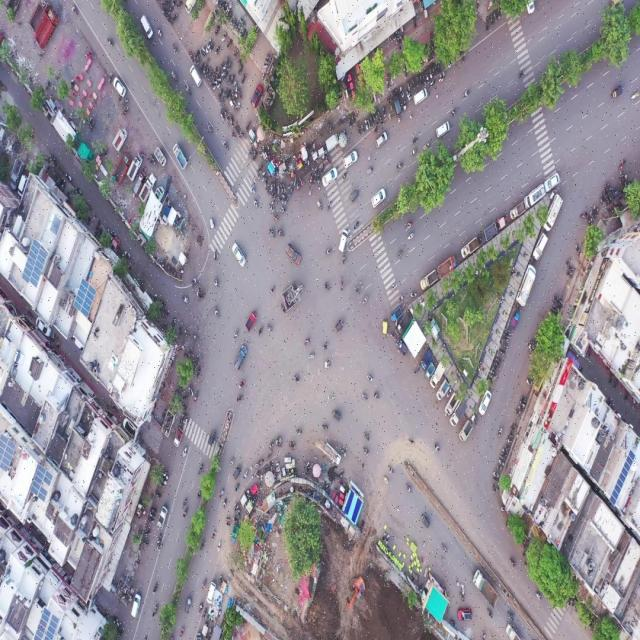3W: (333, 314, 346, 341), (611, 81, 623, 100), (332, 407, 344, 425), (207, 425, 216, 448), (349, 187, 361, 204), (422, 509, 431, 530), (381, 319, 389, 338), (234, 463, 241, 482)
Cars: (284, 242, 301, 268), (231, 243, 248, 268), (343, 148, 361, 171), (434, 118, 452, 140), (140, 11, 154, 39), (233, 345, 248, 371), (533, 233, 548, 259), (371, 187, 388, 209), (321, 167, 337, 190), (478, 389, 491, 417), (544, 170, 561, 191), (374, 129, 388, 151), (412, 88, 428, 107), (113, 76, 126, 97), (249, 84, 262, 105), (456, 607, 473, 622), (190, 64, 201, 87), (207, 578, 217, 603), (132, 593, 141, 619), (338, 228, 347, 253), (183, 595, 194, 614), (393, 88, 400, 117)
LCV: (517, 263, 536, 307), (543, 193, 563, 231), (437, 253, 458, 279), (524, 182, 544, 209), (173, 141, 189, 173), (140, 174, 157, 203), (419, 266, 437, 291), (112, 127, 129, 153), (459, 239, 478, 261), (450, 401, 466, 426), (245, 305, 259, 331), (128, 152, 141, 180), (325, 442, 340, 465), (431, 362, 444, 388), (446, 392, 459, 417), (157, 505, 169, 530), (437, 380, 450, 402), (325, 133, 340, 152), (511, 201, 525, 220), (460, 421, 472, 443), (155, 145, 167, 166), (421, 351, 433, 371), (398, 313, 409, 334), (175, 429, 184, 449), (390, 307, 401, 323), (511, 312, 520, 330), (425, 362, 435, 378)
M2W: (314, 198, 324, 214), (199, 577, 209, 593), (151, 582, 161, 596), (218, 486, 226, 503), (516, 69, 527, 81), (496, 424, 504, 440), (462, 88, 471, 102), (302, 337, 312, 349), (219, 498, 229, 510), (211, 527, 218, 543), (151, 604, 159, 618), (363, 431, 371, 445), (193, 389, 201, 403), (341, 253, 350, 265), (534, 591, 543, 603), (397, 291, 406, 303), (410, 134, 419, 146), (573, 243, 582, 255), (197, 601, 204, 616), (228, 455, 235, 470), (390, 278, 397, 293), (69, 77, 76, 92), (362, 445, 370, 458), (508, 557, 516, 570), (238, 377, 246, 390), (205, 121, 213, 134), (213, 275, 219, 292), (405, 231, 414, 242), (196, 463, 203, 477), (213, 305, 220, 319), (220, 30, 227, 44), (325, 246, 333, 258), (366, 373, 374, 385), (433, 442, 441, 454), (618, 159, 626, 171), (441, 543, 448, 556), (507, 609, 514, 622), (487, 606, 494, 619), (181, 495, 188, 508), (185, 85, 192, 98), (249, 184, 256, 197), (278, 225, 284, 240), (308, 352, 317, 362), (372, 391, 381, 401), (404, 484, 413, 494), (387, 464, 396, 474), (221, 141, 230, 151), (395, 249, 404, 259), (365, 167, 374, 177), (294, 427, 303, 437), (322, 282, 330, 293), (326, 201, 333, 213), (270, 282, 276, 296), (179, 624, 185, 638), (182, 445, 188, 459), (183, 506, 189, 520), (236, 394, 243, 406), (266, 324, 273, 336), (258, 323, 264, 337), (213, 250, 219, 264), (362, 292, 368, 306), (242, 468, 249, 480), (108, 73, 115, 85), (179, 413, 185, 427), (218, 87, 224, 101), (267, 204, 276, 213), (232, 483, 240, 493), (269, 226, 275, 239), (294, 371, 300, 384), (385, 78, 391, 91), (322, 422, 329, 433), (406, 220, 413, 231), (423, 141, 430, 152), (279, 206, 287, 215), (268, 439, 274, 451), (190, 277, 196, 289), (551, 293, 557, 305), (298, 176, 304, 188), (245, 120, 251, 132), (450, 107, 457, 117), (481, 630, 488, 640), (232, 329, 239, 339), (273, 214, 280, 224), (353, 220, 360, 230), (396, 162, 403, 172), (180, 401, 187, 411), (155, 491, 162, 501), (515, 409, 521, 420), (226, 38, 232, 49), (214, 24, 220, 35), (252, 149, 258, 160), (489, 14, 494, 27), (493, 10, 498, 23), (425, 70, 430, 83), (122, 106, 129, 115), (361, 392, 368, 401), (252, 200, 259, 209), (408, 292, 417, 299), (141, 539, 150, 546), (508, 430, 515, 439), (491, 478, 500, 485), (501, 341, 508, 350), (505, 326, 512, 335), (550, 305, 557, 314), (565, 258, 572, 267), (429, 79, 436, 88), (323, 341, 329, 351), (200, 539, 205, 551), (156, 543, 162, 553), (156, 532, 162, 542), (108, 38, 114, 48), (188, 386, 193, 398), (217, 539, 221, 554), (202, 607, 207, 619), (406, 90, 411, 102), (402, 100, 407, 112), (373, 122, 378, 134), (348, 116, 352, 131), (320, 162, 325, 174), (241, 73, 246, 85), (238, 64, 244, 74), (214, 8, 220, 18), (240, 130, 246, 140), (408, 437, 415, 445), (149, 511, 156, 519), (492, 471, 500, 478), (485, 20, 489, 34), (342, 169, 347, 180), (206, 37, 211, 48), (459, 593, 465, 602), (411, 148, 417, 157), (520, 400, 526, 409), (526, 378, 532, 387), (219, 61, 225, 70), (196, 366, 200, 379), (415, 75, 419, 88), (400, 85, 404, 98), (374, 105, 378, 118), (210, 40, 214, 53), (215, 45, 220, 55), (225, 56, 230, 66), (140, 152, 147, 159), (147, 517, 154, 524), (499, 349, 506, 356), (494, 356, 501, 363), (567, 266, 574, 273), (565, 270, 572, 277), (121, 98, 129, 104), (91, 120, 95, 132), (88, 115, 92, 127), (151, 153, 155, 165), (510, 422, 516, 430), (516, 303, 522, 311), (434, 63, 438, 75), (431, 66, 435, 78), (383, 107, 387, 119), (234, 81, 238, 93), (257, 164, 263, 172), (233, 49, 238, 58), (361, 123, 365, 134), (370, 114, 374, 125), (378, 109, 382, 120), (203, 63, 207, 74), (262, 171, 266, 182), (146, 158, 152, 165), (144, 531, 151, 537), (498, 459, 505, 465), (505, 438, 512, 444), (494, 361, 500, 368), (412, 76, 415, 90), (317, 170, 320, 184), (202, 47, 209, 53), (437, 63, 441, 73), (200, 63, 204, 73), (195, 50, 199, 60), (213, 67, 217, 77), (221, 66, 225, 76), (231, 74, 235, 84), (226, 74, 231, 82), (218, 78, 222, 88), (264, 177, 268, 187), (462, 52, 465, 65), (367, 116, 370, 129), (238, 88, 241, 101), (502, 448, 508, 454), (423, 73, 426, 85), (387, 96, 390, 108), (351, 115, 354, 127), (357, 124, 360, 136), (229, 61, 233, 70), (213, 81, 217, 90), (498, 8, 501, 19), (496, 466, 502, 471), (407, 81, 410, 91), (503, 335, 510, 339)
Truck: (471, 565, 501, 608), (34, 8, 57, 46), (112, 151, 129, 184)
